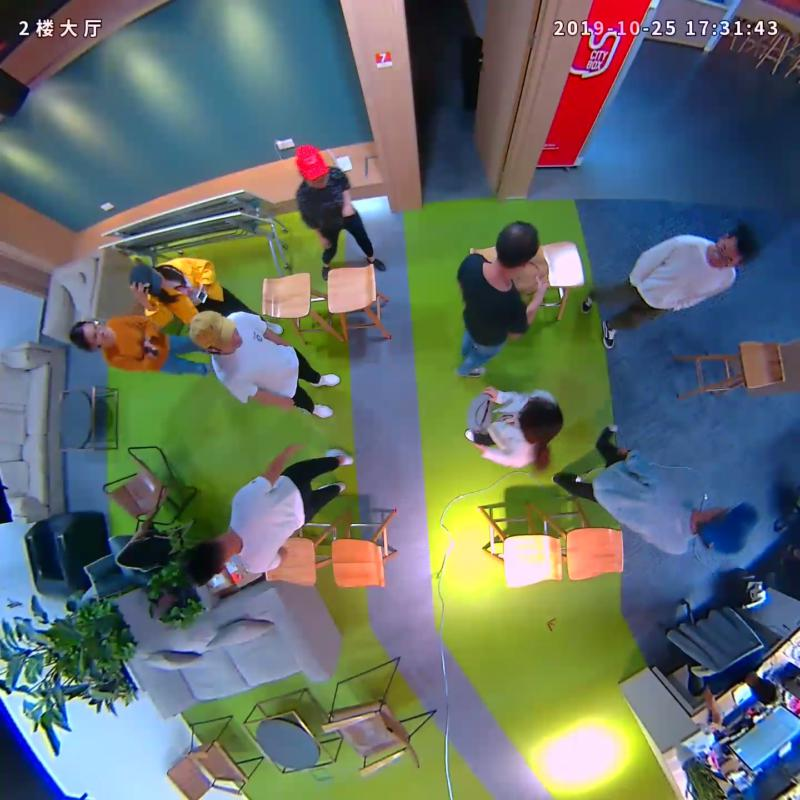head: (696, 502, 759, 554), (188, 310, 243, 353), (184, 534, 230, 585), (708, 225, 760, 270), (519, 395, 563, 443), (496, 220, 538, 268), (295, 144, 329, 185), (68, 319, 113, 349), (129, 264, 166, 294)
